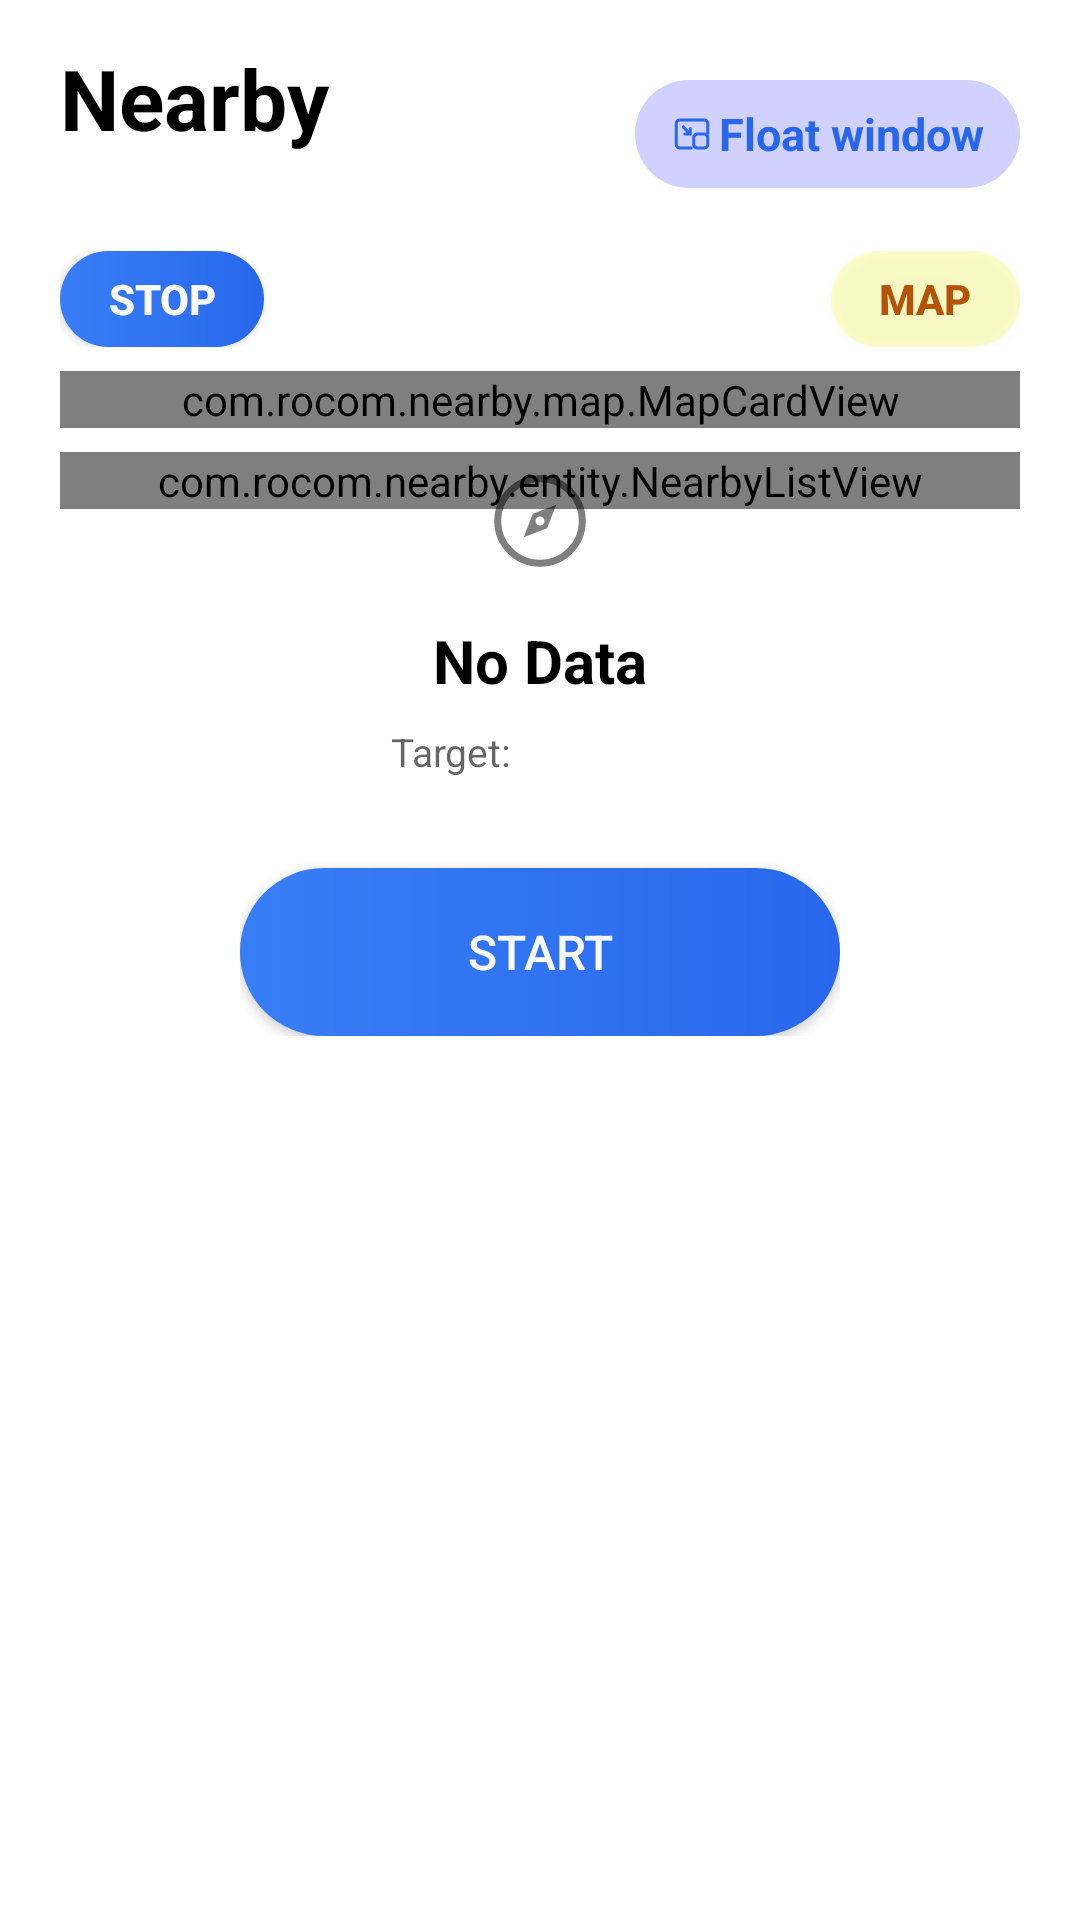

Screen size 1080x1920. Icon name, then its center in pixels as [x,y]:
compass: [540,521]
